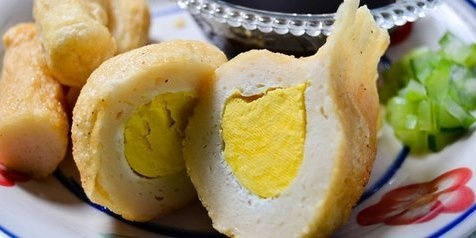pempek: (9, 11, 378, 220)
